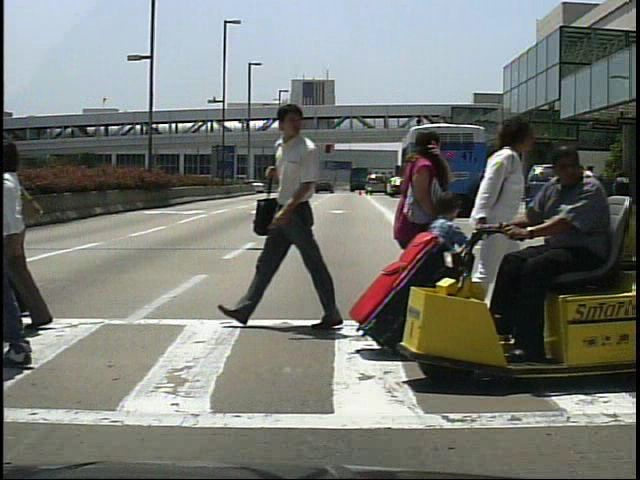person: (500, 144, 625, 373), (239, 101, 337, 331), (466, 104, 548, 351), (385, 124, 451, 355), (7, 133, 75, 327), (423, 187, 467, 319), (582, 162, 602, 218), (499, 166, 517, 219), (494, 164, 513, 213)
